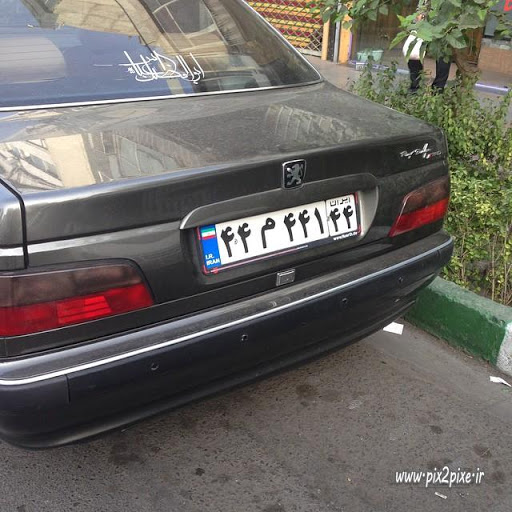car: (196, 191, 359, 277)
